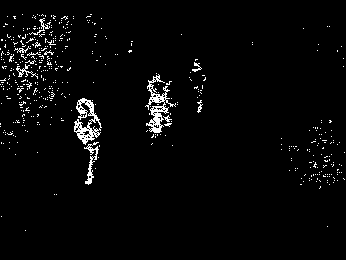person: (68, 97, 101, 188)
